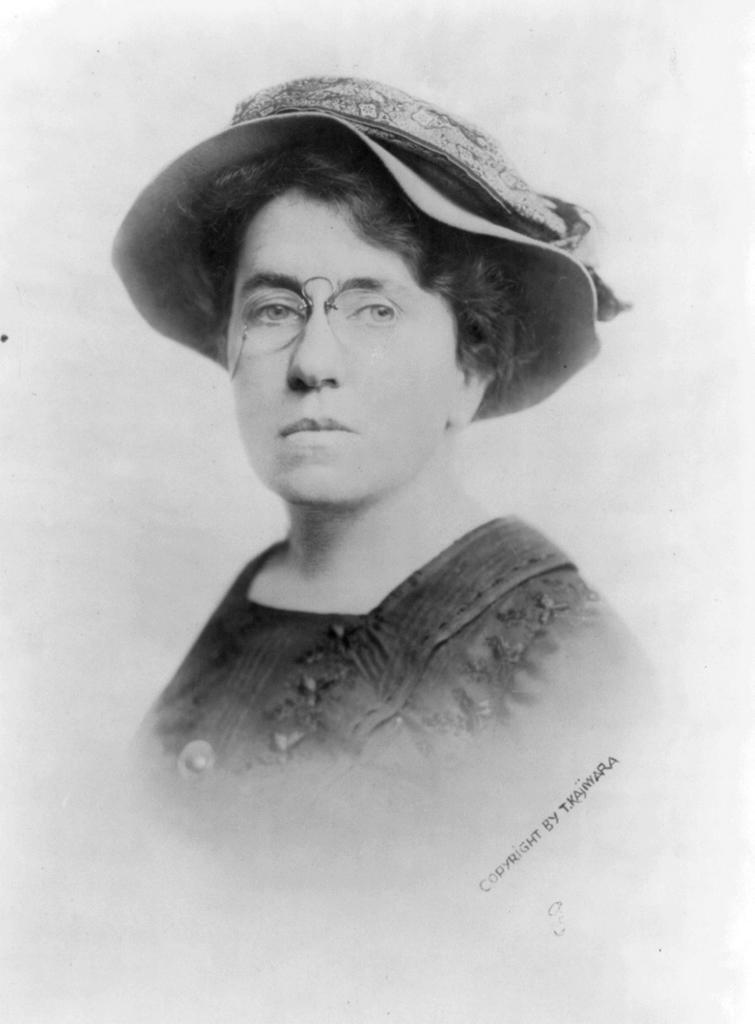Hat: (111, 74, 628, 420)
